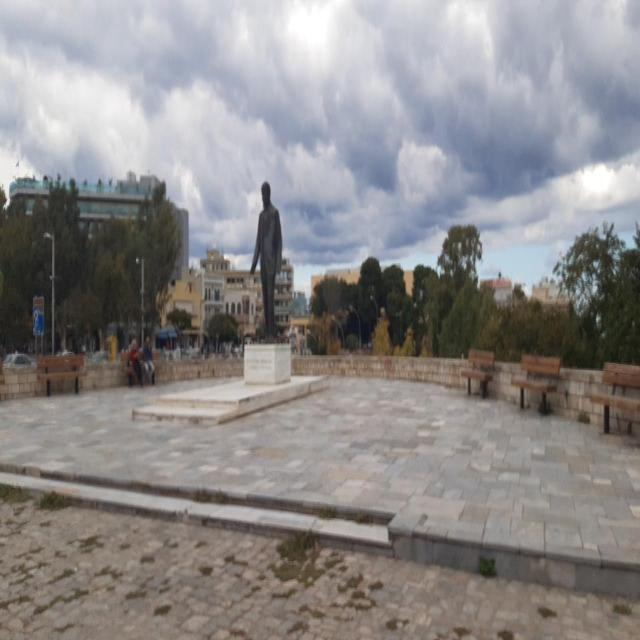Venizelos: (250, 181, 284, 343)
